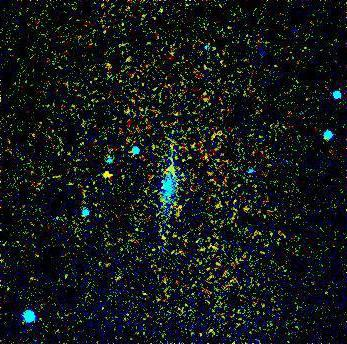star: (91, 157, 121, 187)
